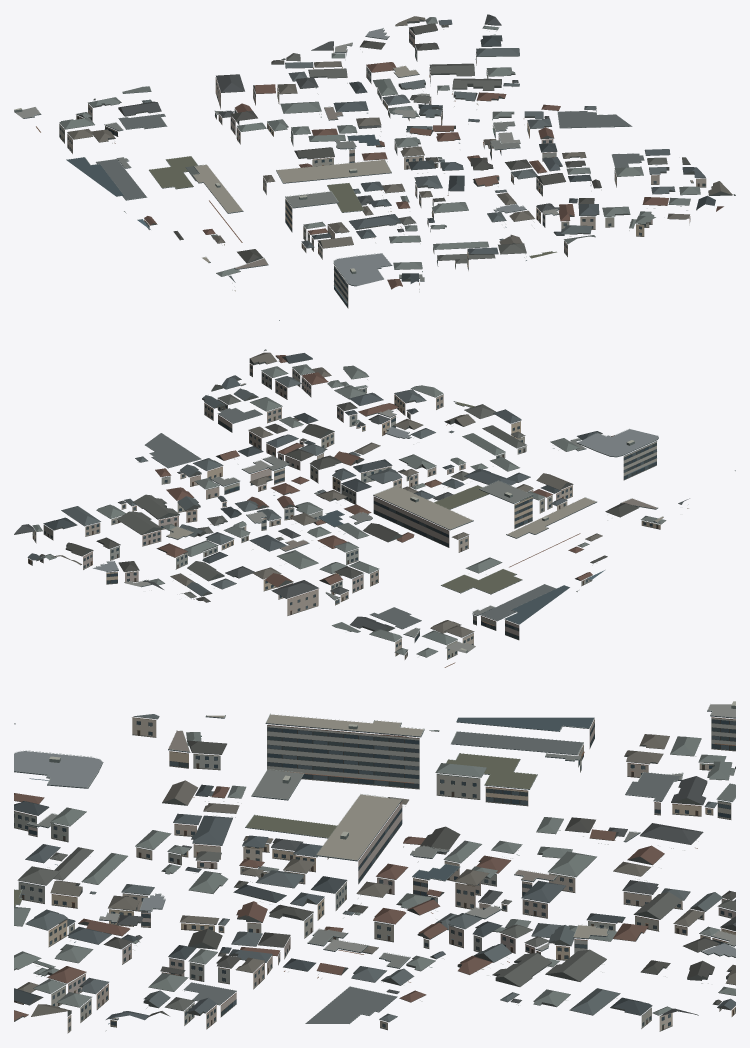
3 renders of one model, top to bottom at view 1: azimuth 30°, elevation 25°; view 2: azimuth 150°, elevation 25°; view 3: azimuth 270°, elevation 25°, orthographic. The views are drawn at different scales.
Visible parts, largest first — view 1: r0-c5; view 2: r0-c5; view 3: r0-c5.
Boxes of the visible parts, box(x1,y1,x2,y2) form: r0-c5: box(14, 14, 735, 320); r0-c5: box(14, 349, 735, 667); r0-c5: box(14, 701, 735, 1033).
Bounding box in the file's own units: 250 × 21.23 × 250.
